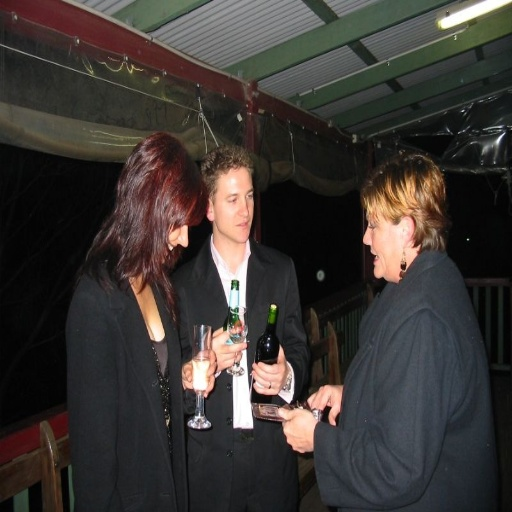hand: (195, 328, 243, 384), (250, 341, 290, 396), (276, 405, 318, 455), (180, 346, 218, 401), (305, 382, 344, 428)
